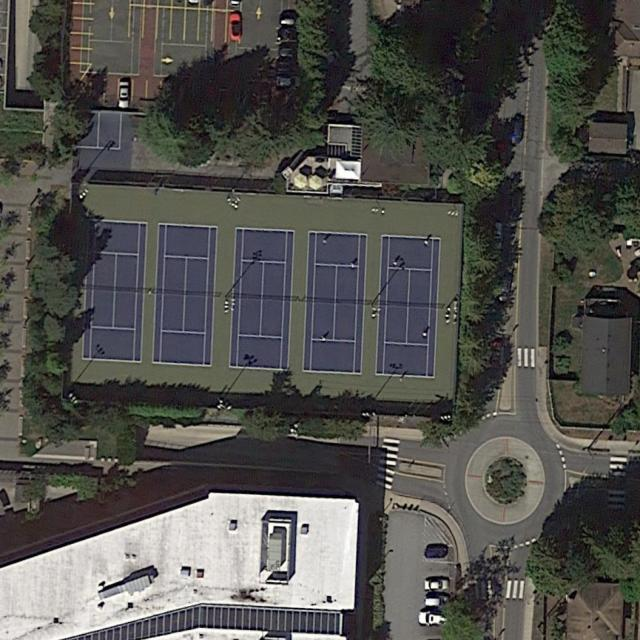small-vehicle: (487, 340, 504, 370), (509, 117, 526, 146), (498, 272, 514, 302), (418, 611, 448, 626), (274, 61, 303, 76), (490, 222, 505, 251), (229, 11, 242, 43), (275, 76, 302, 90), (277, 28, 300, 43), (425, 547, 447, 561), (277, 15, 302, 27), (277, 46, 300, 59), (118, 82, 129, 109), (425, 596, 449, 608), (425, 580, 449, 591)
